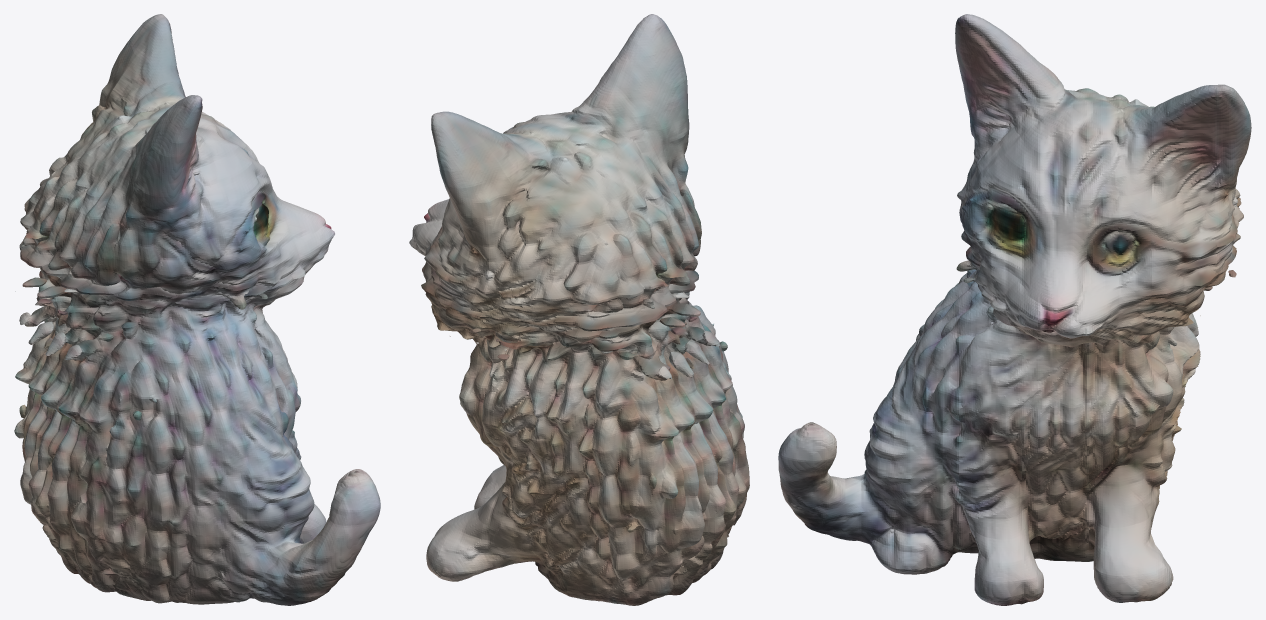
File: TripoSR__00004_.glb
The picture shows the model from 3 angles, left to right: view 1: azimuth 30°, elevation 25°; view 2: azimuth 150°, elevation 25°; view 3: azimuth 270°, elevation 25°; orthographic projection. The views are drawn at different scales.
Visible parts, largest first — view 1: world; view 2: world; view 3: world.
Part boxes in pixels (x1,y1,x2,y2): world: [14, 14, 380, 605]; world: [409, 14, 749, 605]; world: [778, 14, 1251, 605].
Bounding box in the file's own units: 0.6105 × 0.9891 × 0.7932.
